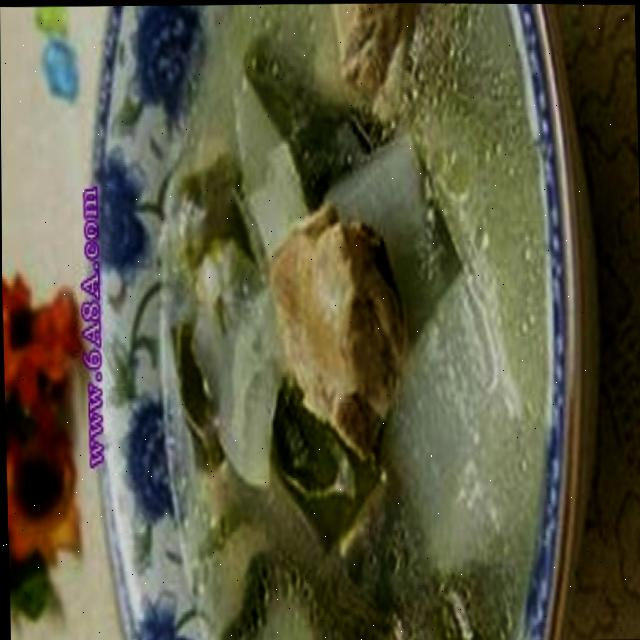汤锅炖物: (62, 15, 587, 640)
